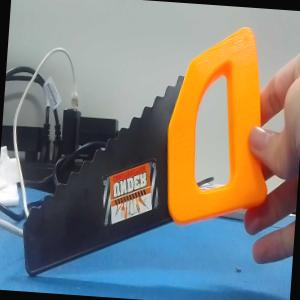serrote: (17, 10, 265, 292)
